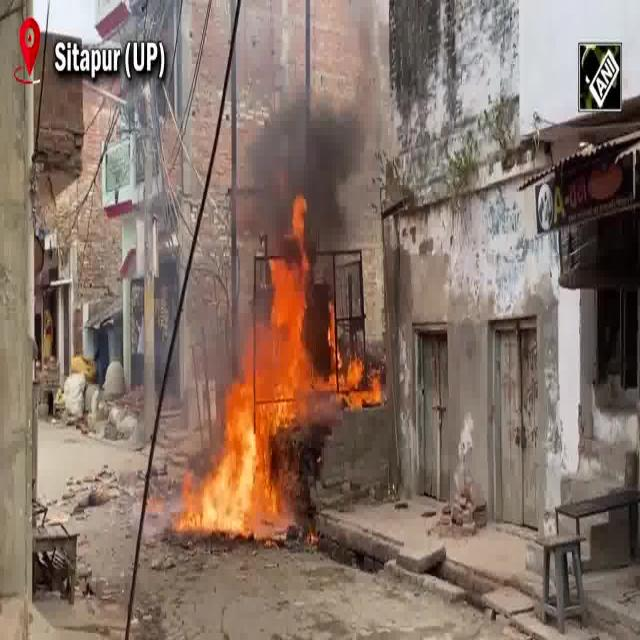fire: (254, 109, 352, 232), (207, 391, 270, 531), (270, 260, 301, 418)
